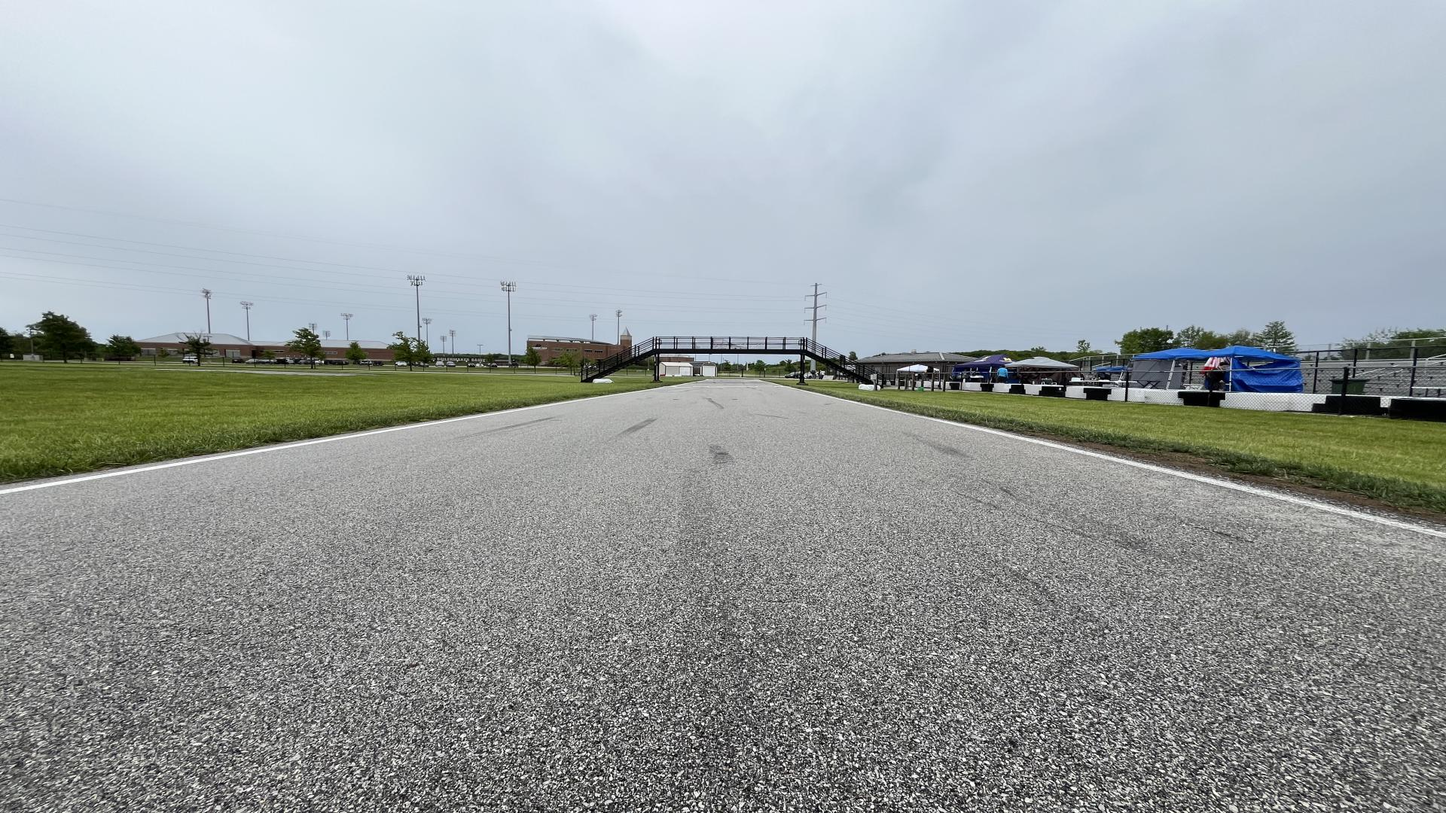white-line: (787, 387, 1445, 538), (0, 388, 664, 494), (733, 379, 781, 385), (673, 379, 707, 386)
